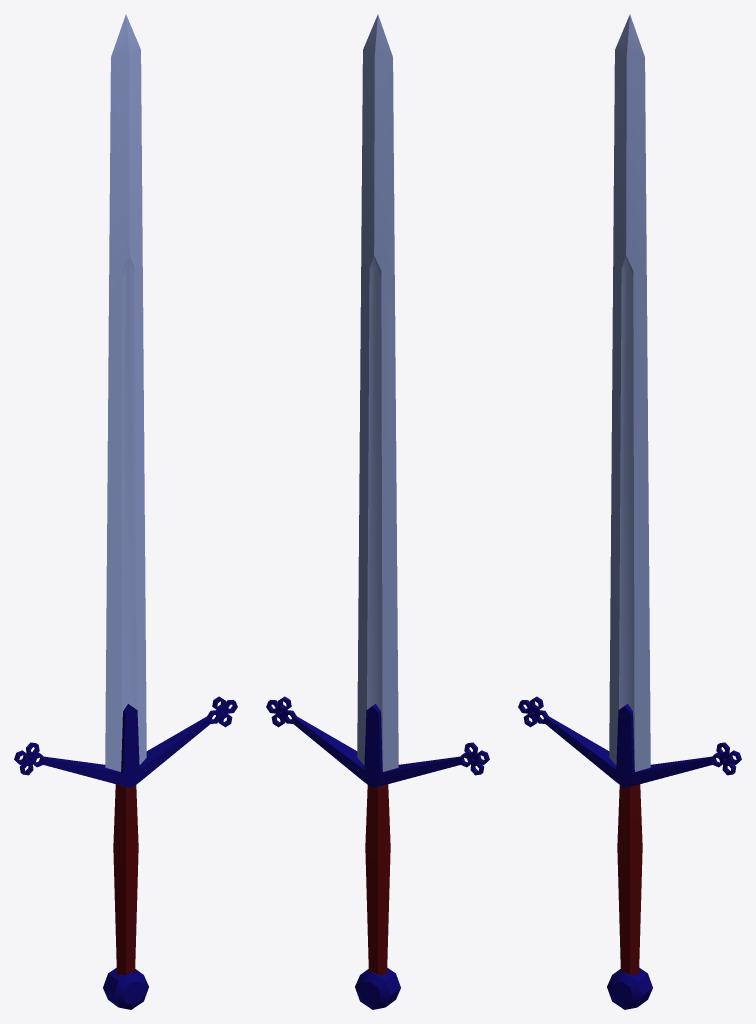
The model's file is claymore.glb.
3 views of the same model, side by side, from view 1: azimuth 30°, elevation 25°; view 2: azimuth 150°, elevation 25°; view 3: azimuth 330°, elevation 25° (orthographic).
Visible parts, largest first — view 1: claymore; view 2: claymore; view 3: claymore.
Boxes of the visible parts, bbox=[...] form: claymore: bbox=[14, 14, 237, 1009]; claymore: bbox=[266, 14, 489, 1009]; claymore: bbox=[518, 14, 741, 1009].
Size of the model in its own units: 0.4537 by 1.94 by 0.0575.
